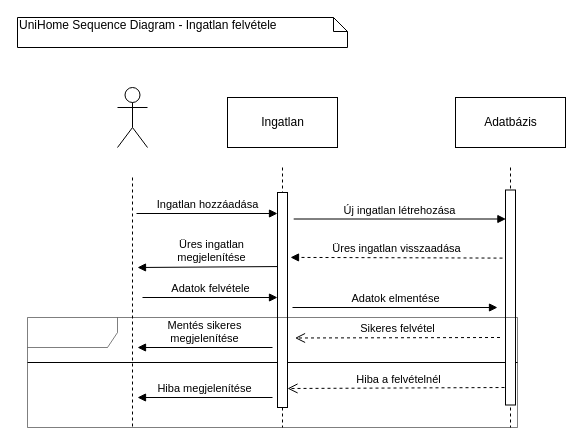
The diagram is 583 pixels wide and 445 high, and some of its shapes have lost their labels. Each missing label, with the box of its shape:
Ingatlanügynök: (116, 86, 148, 148)
Mentés esetei: (26, 316, 518, 428)
